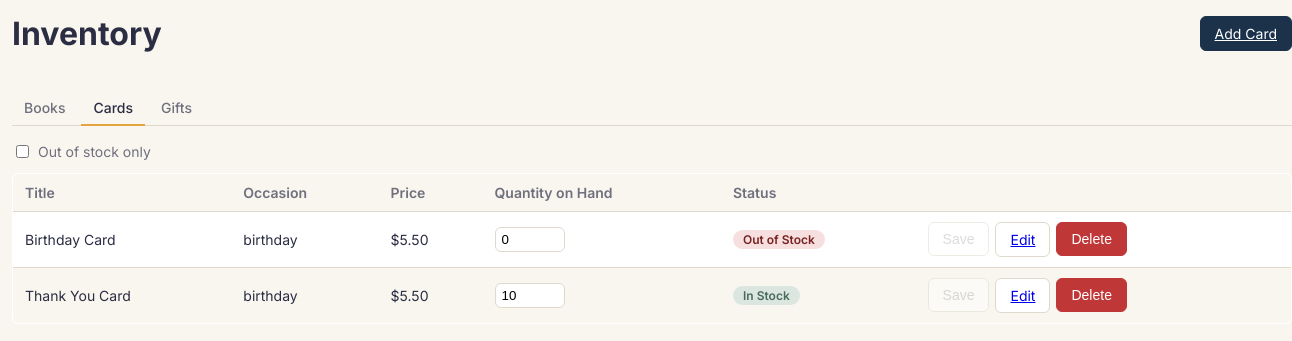
CardsInventoryPage › deletes a card after confirming
Expected: the text "Birthday Card" is shown, [12, 211, 231, 267]
Click the button "Delete" in the row of "Birthday Card" at (1092, 239), box [1056, 222, 1127, 256]
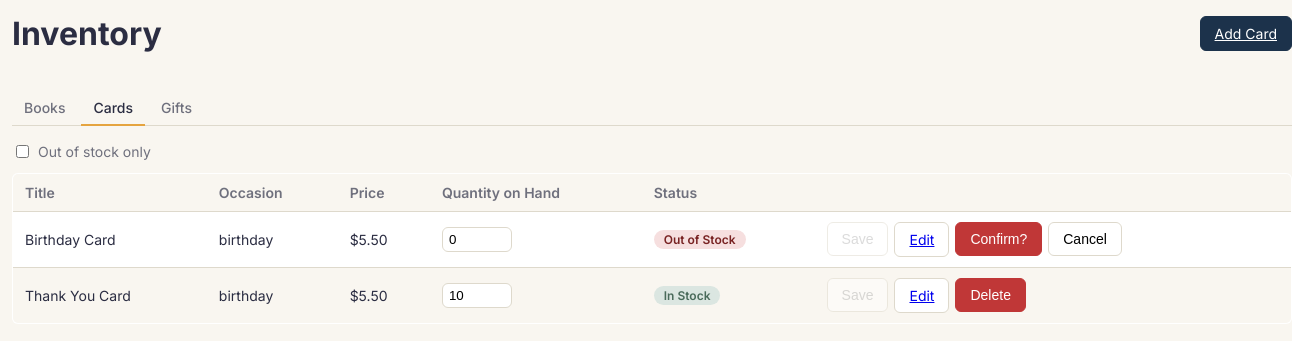
Click the button "Confirm?" at (999, 239), box [956, 222, 1042, 256]
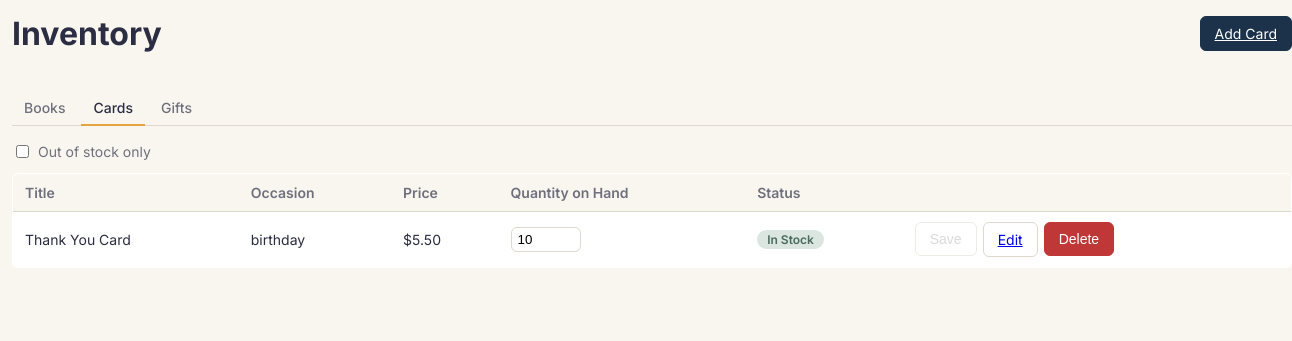
Now the text "Birthday Card" is gone
